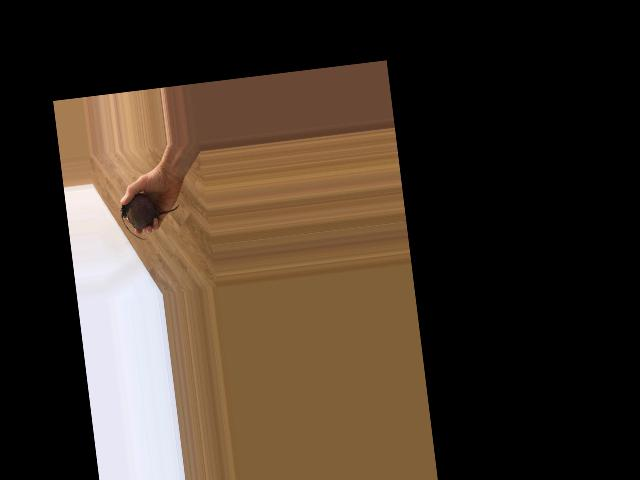beet: (118, 189, 182, 242)
